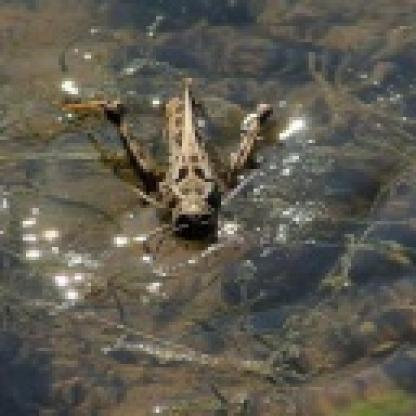grasshopper: (86, 75, 272, 240)
